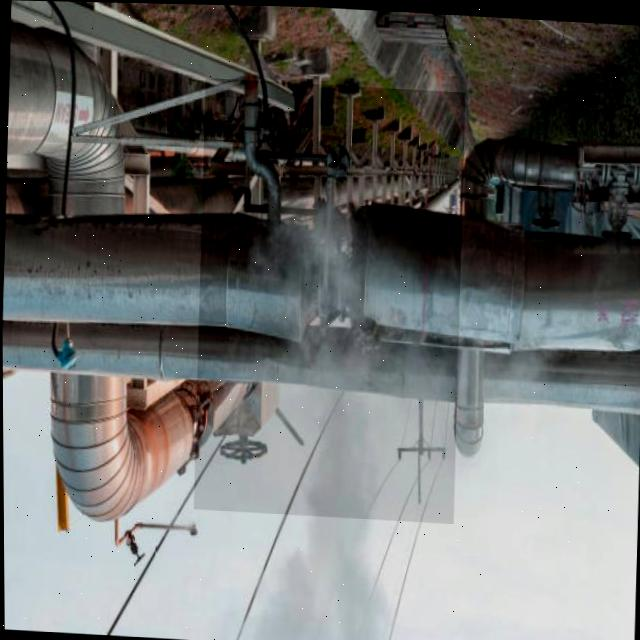corrosion: (229, 187, 422, 496)
